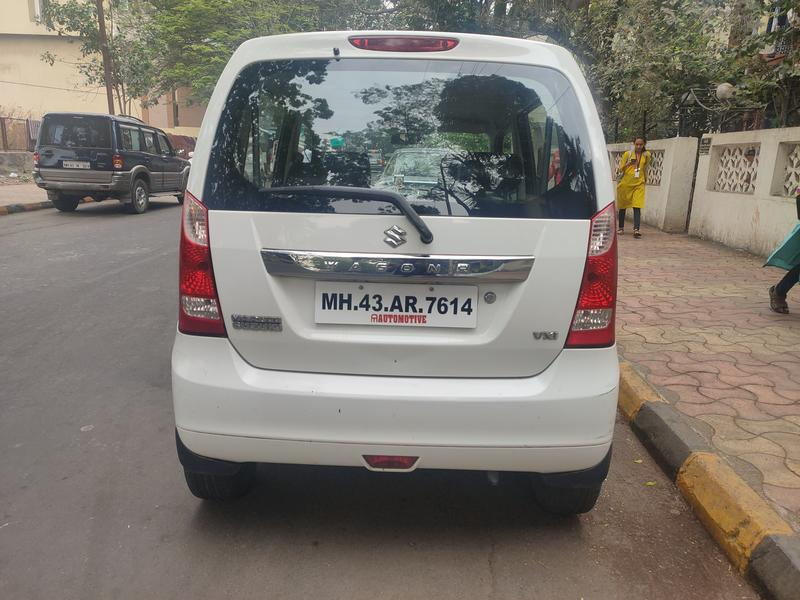license_plate: (302, 274, 491, 341)
